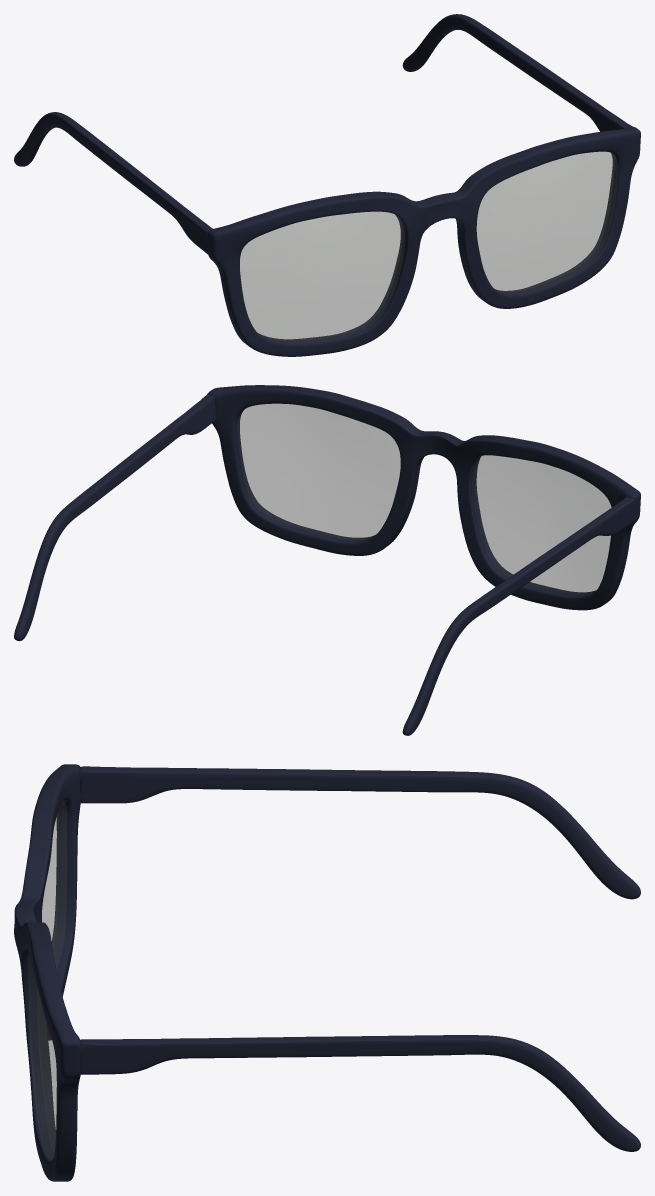
The picture shows the model from 3 angles, top to bottom: view 1: azimuth 30°, elevation 25°; view 2: azimuth 150°, elevation 25°; view 3: azimuth 270°, elevation 25°; orthographic projection. The views are drawn at different scales.
Parts seen in each view (by area): view 1: Glasses_3, Frame_1, Handles_2; view 2: Glasses_3, Frame_1, Handles_2; view 3: Handles_2, Frame_1, Glasses_3.
Boxes of the visible parts, x1,y1,x2,y2 form: Glasses_3: [240, 152, 617, 342]; Frame_1: [207, 127, 640, 356]; Handles_2: [14, 14, 632, 254]; Glasses_3: [237, 404, 611, 594]; Frame_1: [207, 385, 640, 610]; Handles_2: [14, 394, 634, 735]; Handles_2: [80, 766, 640, 1151]; Frame_1: [14, 764, 80, 1181]; Glasses_3: [28, 801, 66, 1160].
Bounding box in the file's own units: 1.12 × 0.3846 × 1.06.
